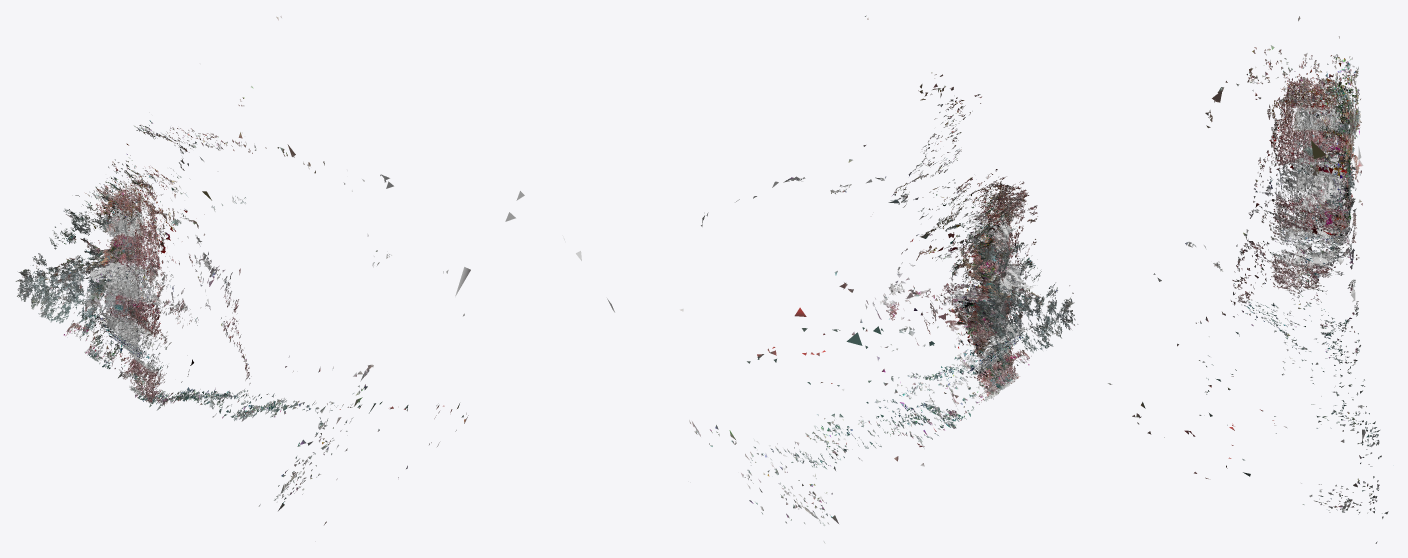
File: mesh-splat.glb
3 views of the same model, side by side, from view 1: azimuth 30°, elevation 25°; view 2: azimuth 150°, elevation 25°; view 3: azimuth 270°, elevation 25° (orthographic). The views are drawn at different scales.
Parts seen in each view (by area): view 1: geometry_0; view 2: geometry_0; view 3: geometry_0.
Boxes of the visible parts, box(x1,y1,x2,y2) form: geometry_0: box(15, 16, 524, 524); geometry_0: box(564, 15, 1078, 543); geometry_0: box(1108, 16, 1388, 543).
Size of the model in its own units: 40.67 by 39.03 by 20.32.
